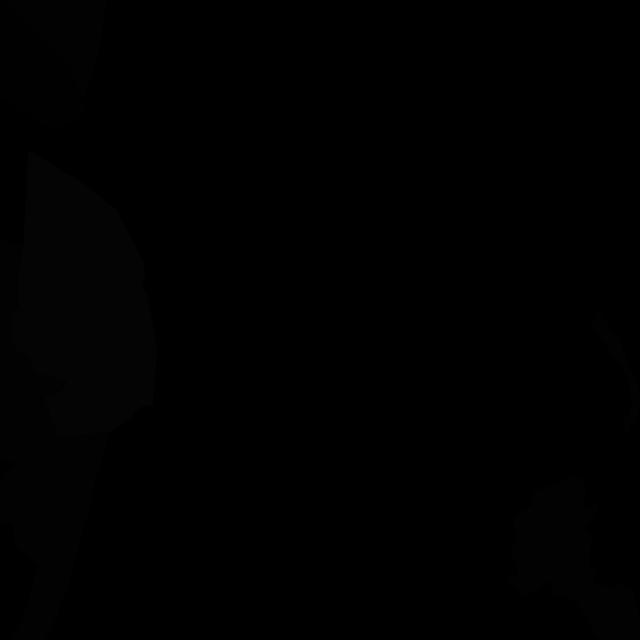cardboard: (508, 476, 640, 640), (8, 431, 111, 640), (0, 351, 76, 557), (0, 0, 107, 99), (590, 311, 640, 438), (0, 239, 23, 386), (35, 372, 67, 395)
rigid_plastic: (0, 0, 86, 132)
soft_plastic: (11, 150, 157, 438)
